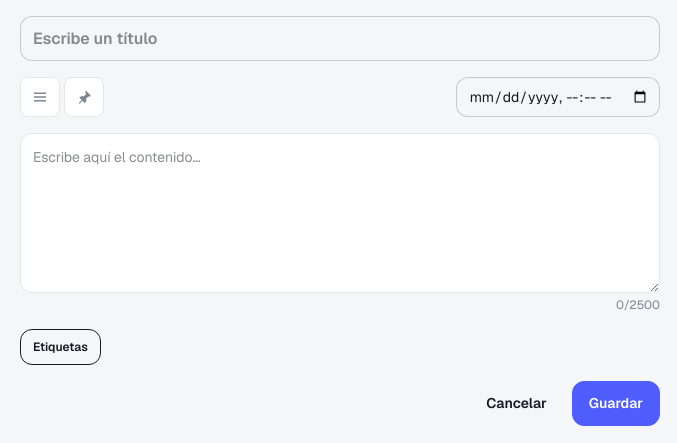
Test: NoteEditor › cuenta las longitudes de los ítems con checklist activo (RF-36)
The width and height of the screenshot is (677, 443).
Click the button named "Modo checklist": (40, 97) [20, 77, 60, 117]
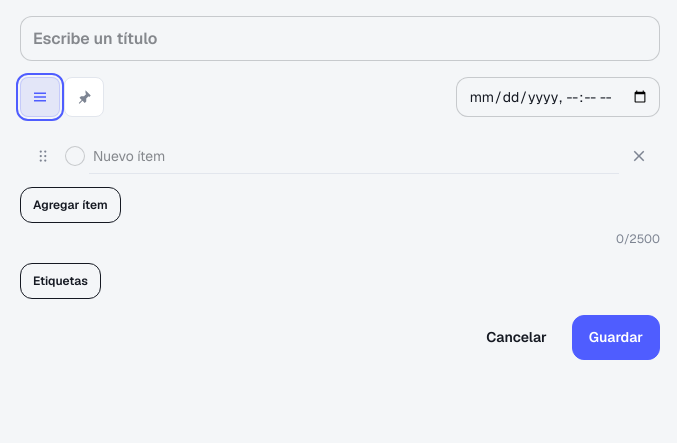
In the text box with placeholder "Nuevo ítem": (354, 156) [89, 138, 619, 174], type "casa"
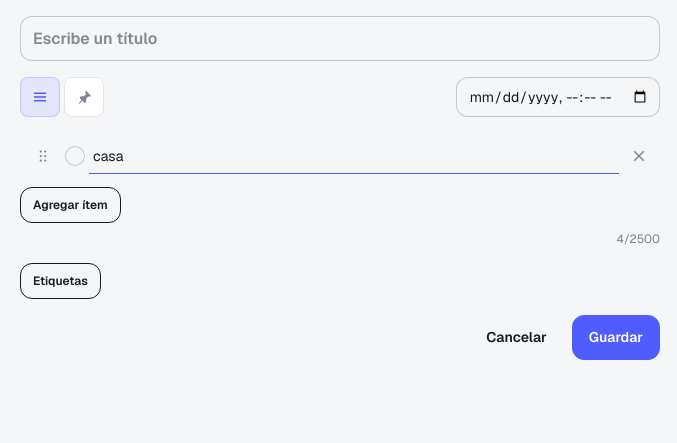
Result: the text "4/2500" is shown at [617, 231, 660, 247]
